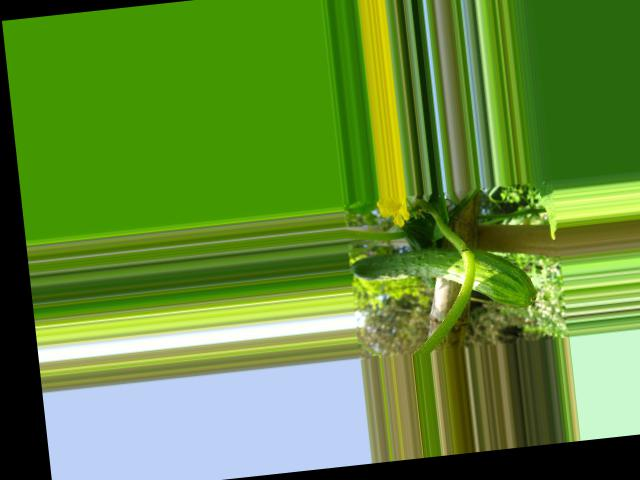cucumber: (348, 238, 537, 324)
